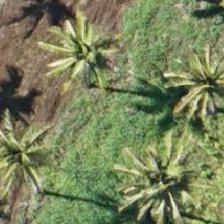coconut_tree: (32, 9, 122, 99), (119, 142, 209, 223), (162, 48, 223, 138), (0, 112, 61, 202)
